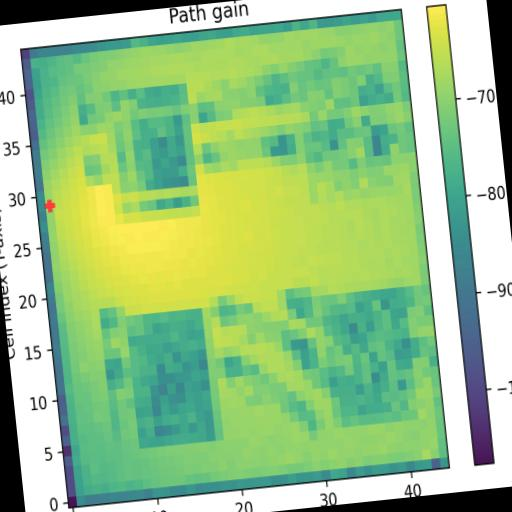Concrete: (296, 55, 394, 194)
Glass: (109, 83, 200, 214)
Metal: (320, 286, 420, 428)
Wood: (126, 308, 217, 450)
